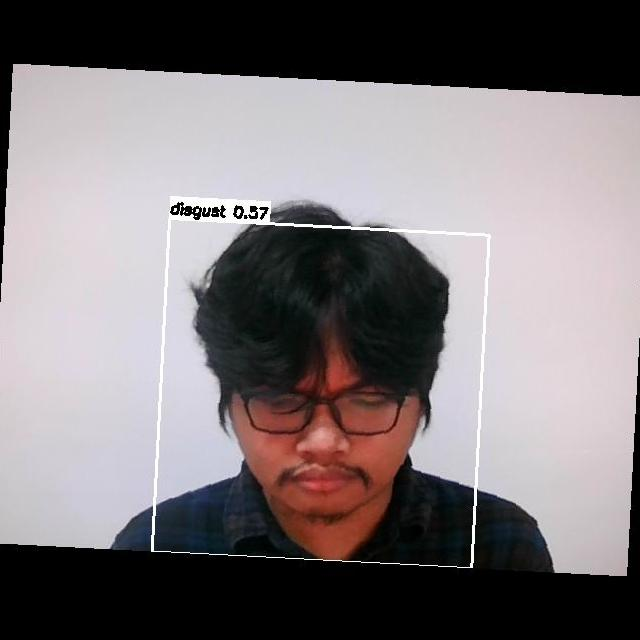Angry: (229, 359, 420, 495)
